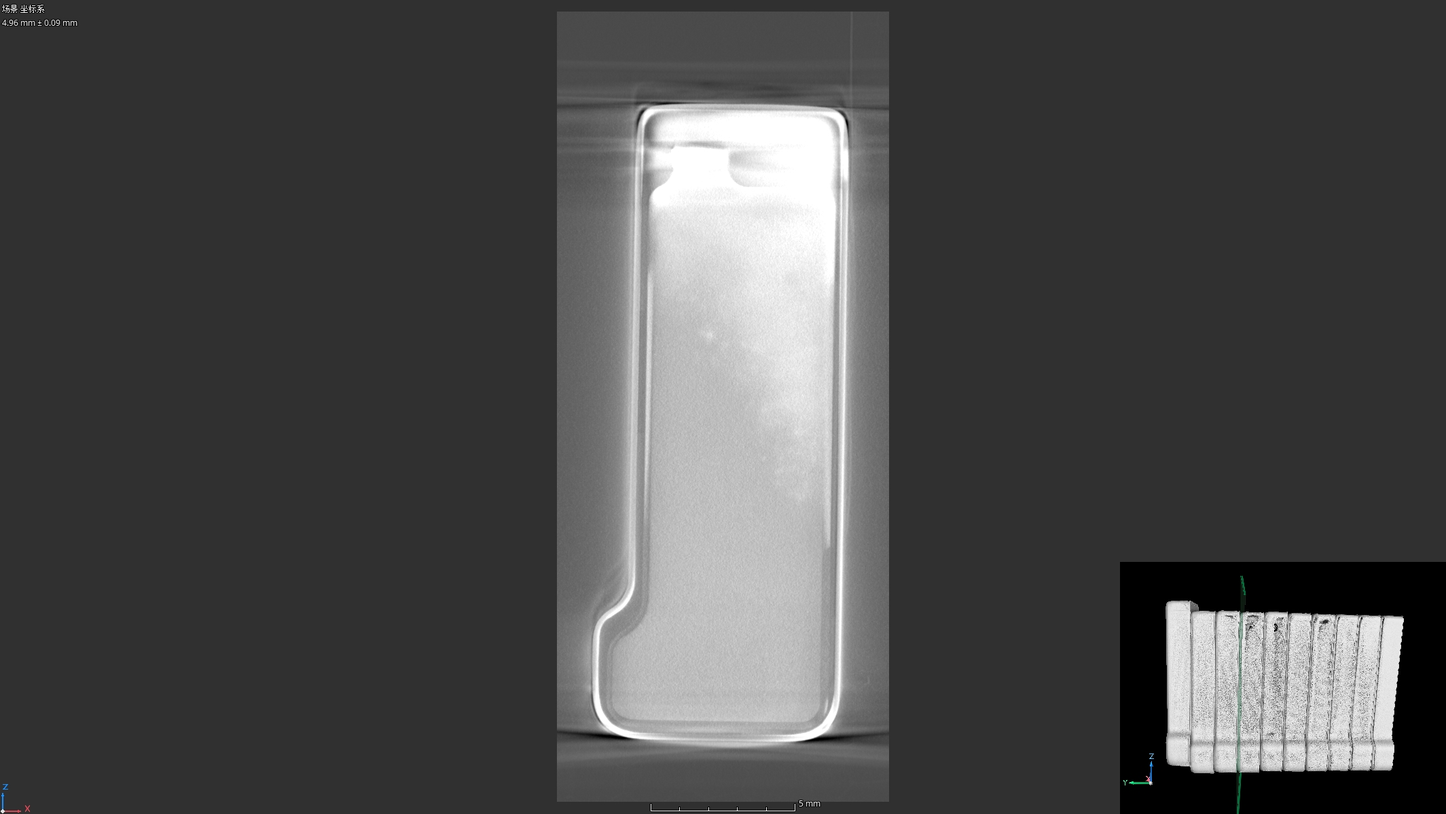light: (757, 451, 770, 464), (702, 330, 715, 342), (721, 338, 731, 350)
